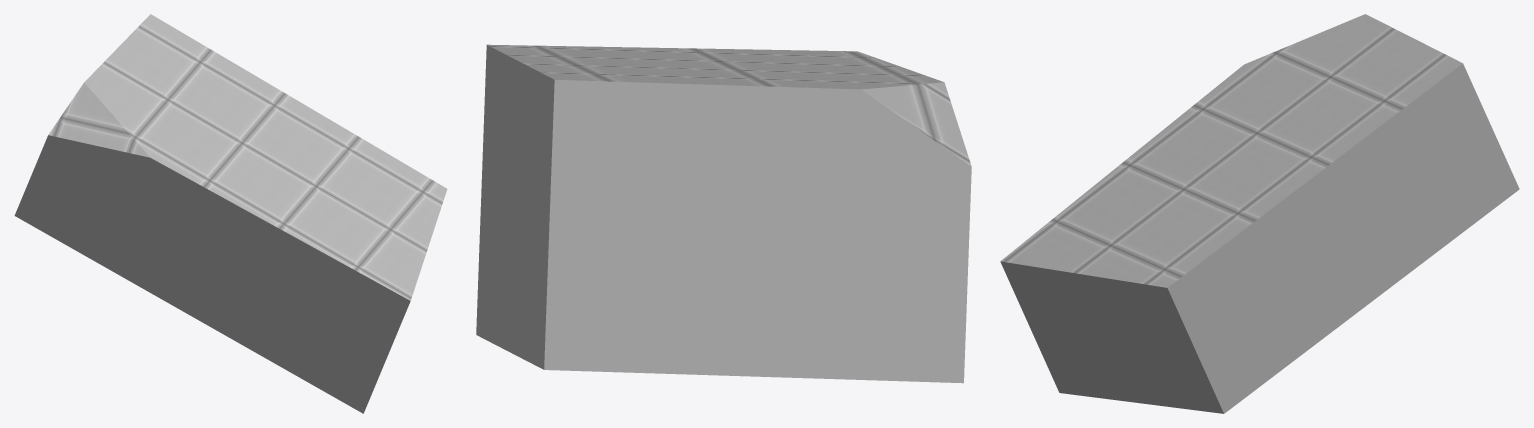
File: Floor4.fbx
3 views of the same model, side by side, from view 1: azimuth 30°, elevation 25°; view 2: azimuth 150°, elevation 25°; view 3: azimuth 270°, elevation 25° (orthographic). The views are drawn at different scales.
Visible parts, largest first — view 1: Floor4; view 2: Floor4; view 3: Floor4.
Boxes of the visible parts, x1,y1,x2,y2 form: Floor4: (14,14,447,413); Floor4: (476,44,971,383); Floor4: (1000,14,1519,413).
Bounding box in the file's own units: 319 × 252 × 380.
